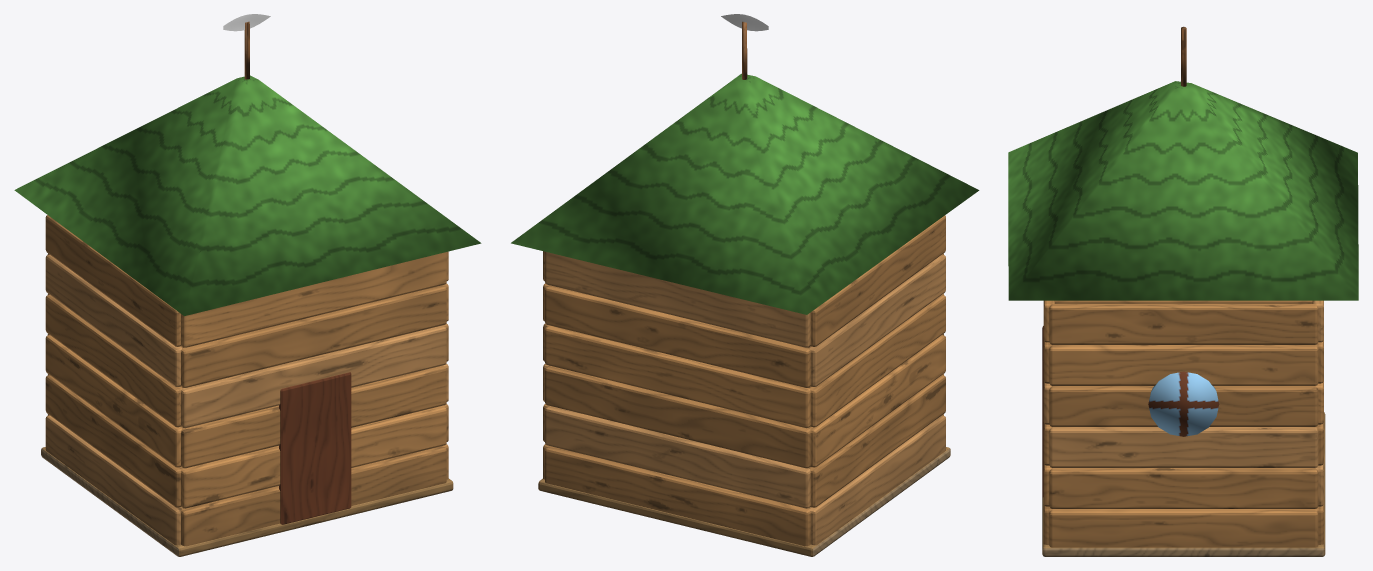
The model's file is treehouse.glb.
3 views of the same model, side by side, from view 1: azimuth 30°, elevation 25°; view 2: azimuth 150°, elevation 25°; view 3: azimuth 270°, elevation 25° (orthographic). The views are drawn at different scales.
Visible parts, largest first — view 1: Treehouse; view 2: Treehouse; view 3: Treehouse.
Part boxes in pixels (bbox=[...]): Treehouse: bbox=[14, 14, 481, 556]; Treehouse: bbox=[511, 14, 979, 556]; Treehouse: bbox=[1008, 26, 1358, 556].
Size of the model in its own units: 2.48 by 3.66 by 2.48.
Materials: 1 (1 with a texture image).
